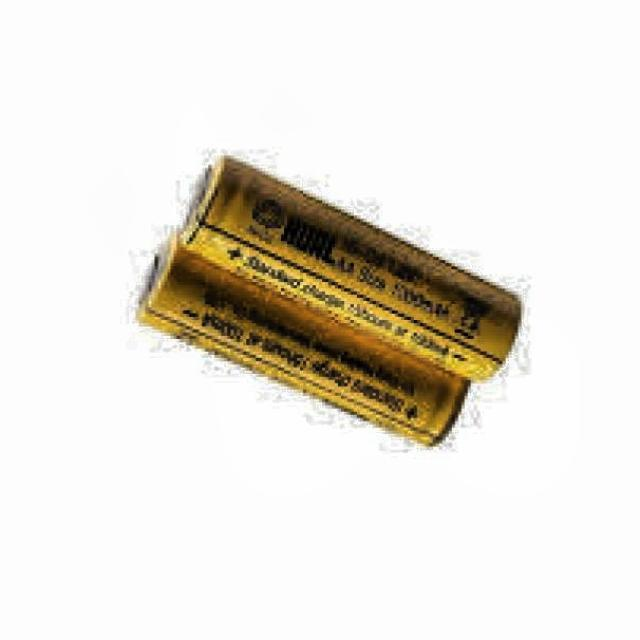battery: (142, 162, 521, 446)
